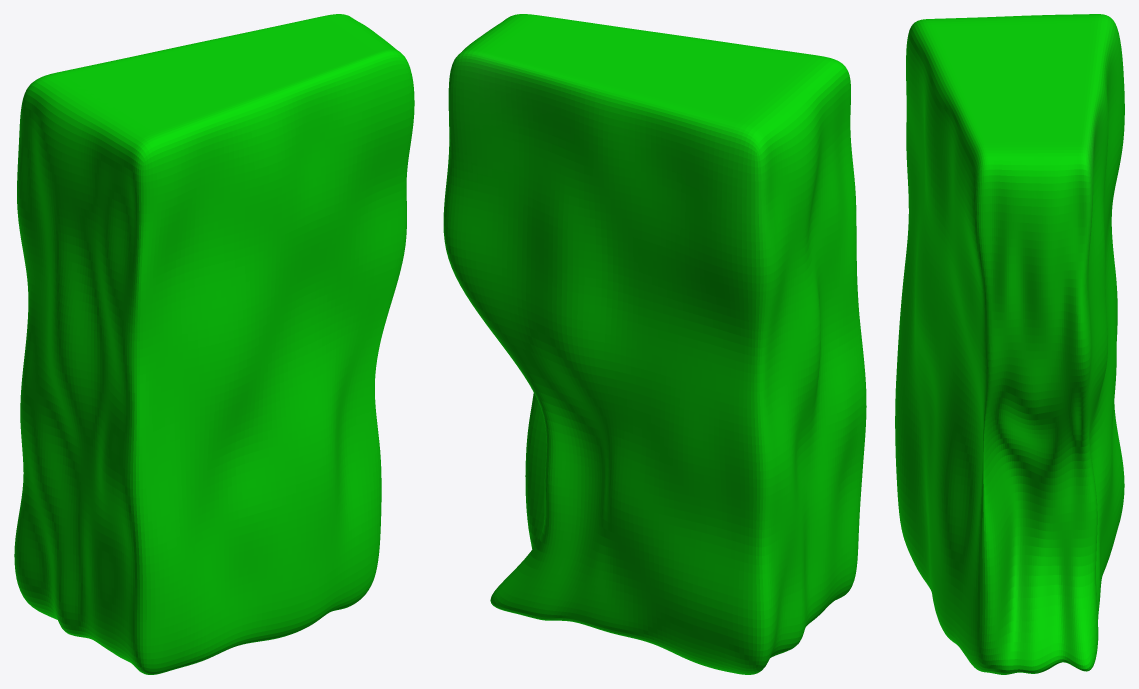
Rendered from level_one_rock_wall_3.fbx.
3 views of the same model, side by side, from view 1: azimuth 30°, elevation 25°; view 2: azimuth 150°, elevation 25°; view 3: azimuth 270°, elevation 25° (orthographic). The views are drawn at different scales.
Visible parts, largest first — view 1: RockWall03; view 2: RockWall03; view 3: RockWall03.
Boxes of the visible parts, x1,y1,x2,y2 form: RockWall03: (14,14,414,674); RockWall03: (443,14,866,674); RockWall03: (895,14,1124,674).
Bounding box in the file's own units: 799 × 1364 × 2077.
